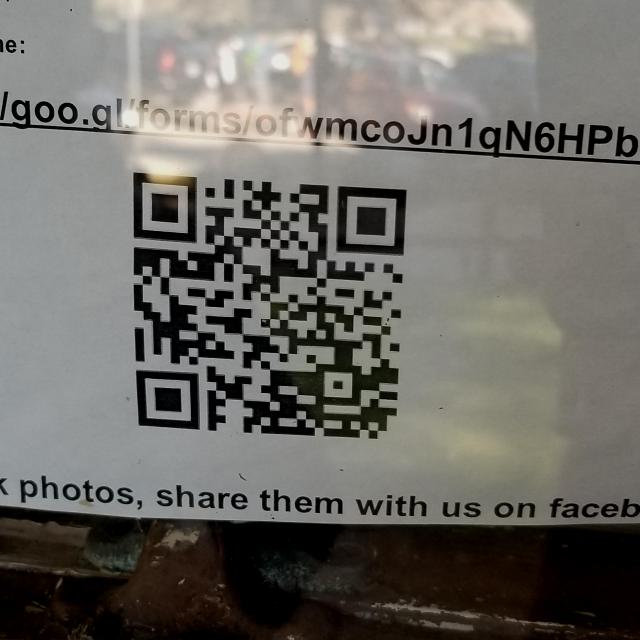QRCode: (121, 155, 414, 450)
